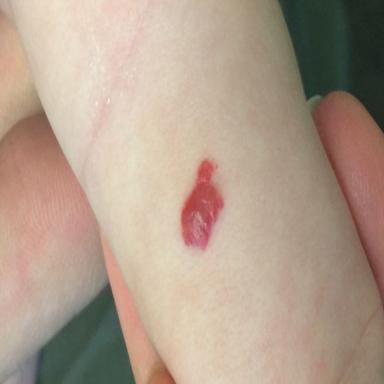Hemangiome: (181, 160, 223, 249)
